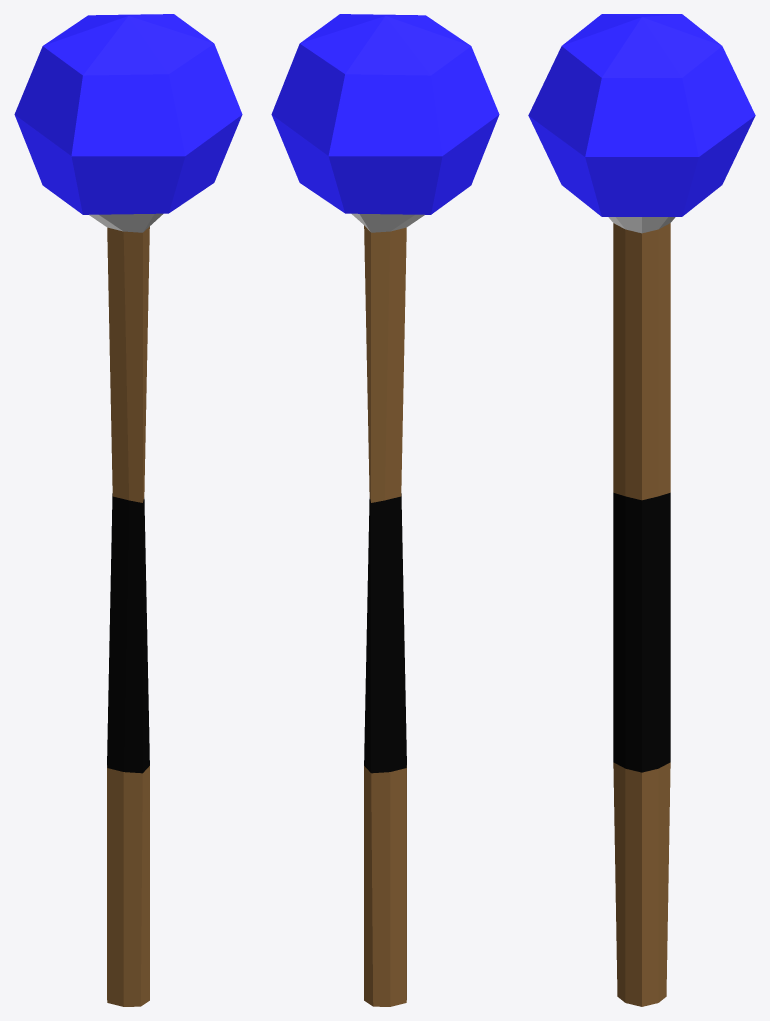
File: thalria_staff.glb
The picture shows the model from 3 angles, left to right: view 1: azimuth 30°, elevation 25°; view 2: azimuth 150°, elevation 25°; view 3: azimuth 270°, elevation 25°; orthographic projection.
Parts seen in each view (by area): view 1: Cube.003; view 2: Cube.003; view 3: Cube.003.
Part boxes in pixels (x1,y1,x2,y2): Cube.003: (14,14,242,1006); Cube.003: (271,14,499,1006); Cube.003: (528,14,755,1006).
Bounding box in the file's own units: 0.2766 × 1.52 × 0.3191.
